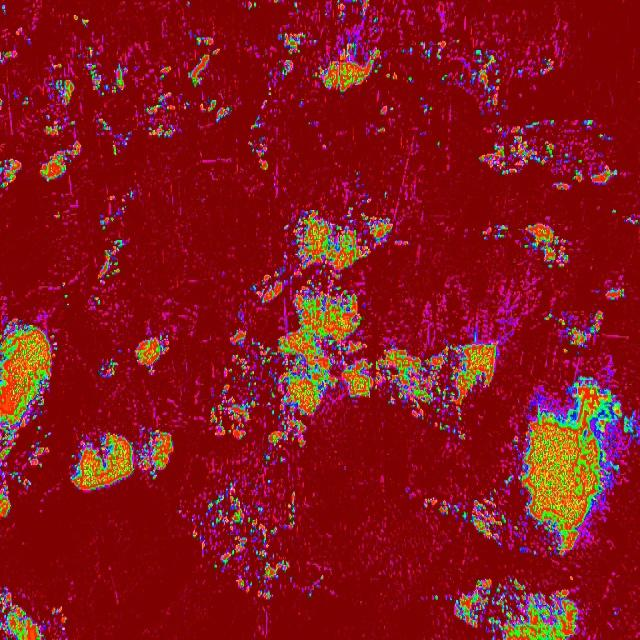fire: (209, 204, 500, 464), (513, 376, 640, 558), (176, 475, 298, 601), (387, 38, 558, 112), (0, 319, 59, 519), (478, 119, 622, 192), (446, 579, 578, 640), (68, 426, 175, 492), (90, 188, 142, 311), (38, 59, 84, 183), (310, 38, 384, 96), (0, 581, 69, 640), (144, 94, 234, 138), (469, 473, 512, 549), (543, 308, 604, 357), (84, 44, 134, 94), (522, 223, 570, 273), (257, 57, 295, 113), (185, 34, 223, 88), (134, 332, 172, 376), (246, 115, 272, 177), (328, 0, 382, 24), (98, 118, 132, 156), (422, 497, 469, 523), (306, 119, 332, 158), (276, 29, 308, 56), (0, 155, 24, 190), (305, 572, 326, 602), (352, 171, 370, 203), (96, 355, 117, 379), (602, 284, 626, 304), (72, 12, 92, 30), (156, 63, 174, 82), (0, 47, 19, 64), (61, 281, 70, 310), (624, 212, 640, 227), (22, 31, 34, 50), (499, 222, 510, 242), (242, 0, 259, 11), (374, 126, 392, 136), (290, 0, 301, 14), (244, 36, 254, 50), (380, 189, 390, 202), (20, 95, 31, 106), (433, 138, 442, 150), (0, 4, 10, 14), (296, 98, 306, 108), (115, 346, 124, 356), (56, 210, 64, 221), (0, 96, 6, 110), (185, 0, 194, 9), (12, 91, 18, 102), (610, 207, 618, 215), (271, 0, 282, 5), (432, 594, 439, 601)
